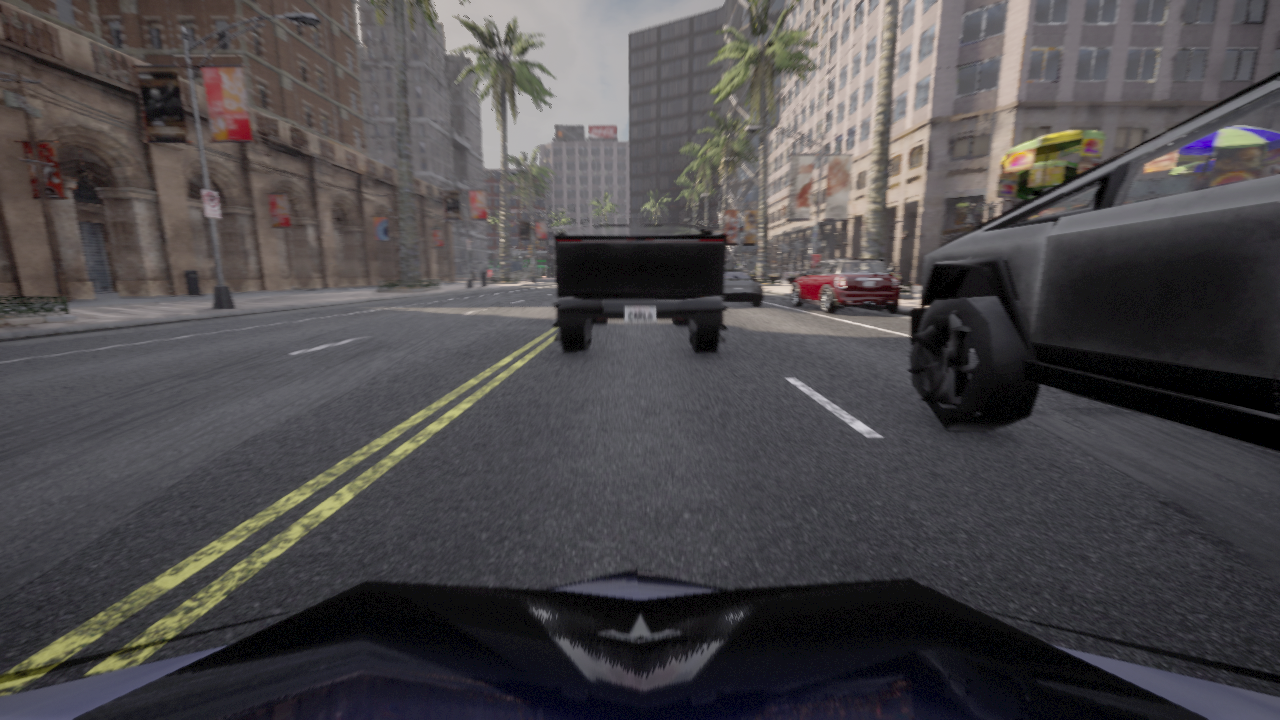cyclist: (0, 569, 1279, 719), (909, 71, 1279, 452), (552, 226, 727, 353), (790, 254, 899, 313), (722, 269, 762, 305)
